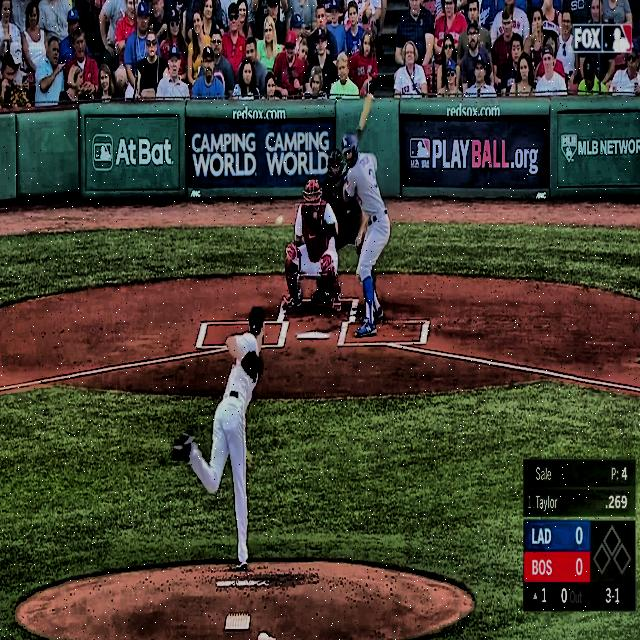baseball: (276, 214, 283, 227)
